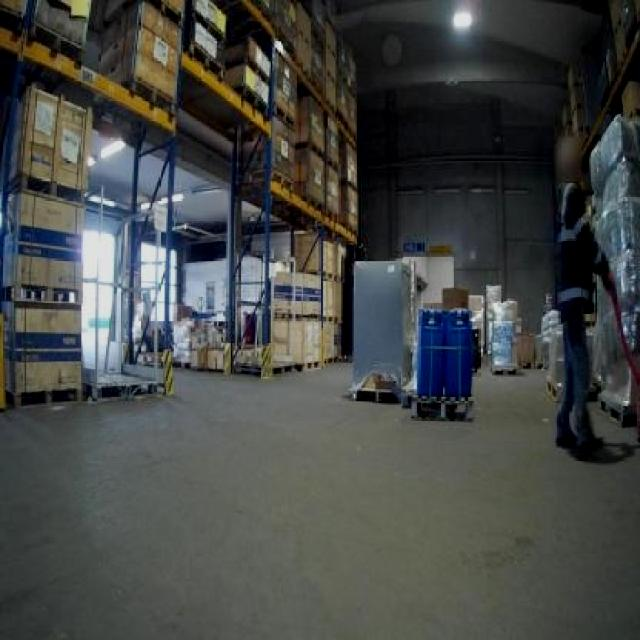floor: (0, 362, 637, 637)
pallets: (0, 85, 89, 402), (588, 114, 637, 365), (409, 308, 469, 417), (592, 283, 635, 418)
